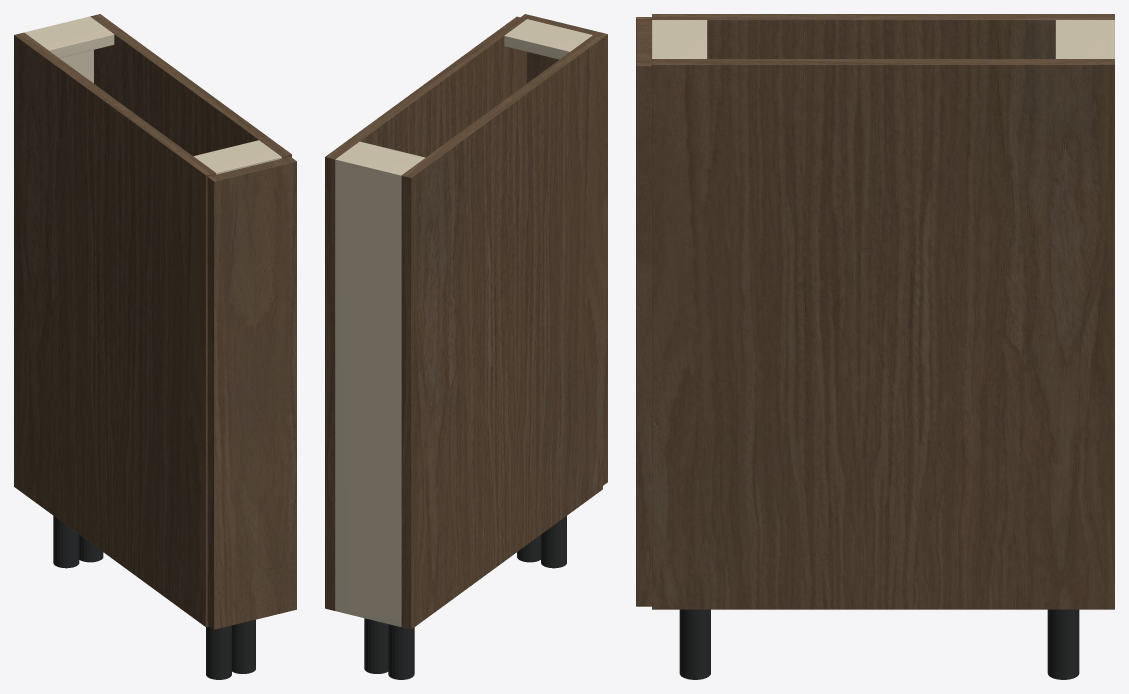
Rendered from oppein-ply-mso-b06fh.glb.
3 renders of one model, left to right at view 1: azimuth 30°, elevation 25°; view 2: azimuth 150°, elevation 25°; view 3: azimuth 270°, elevation 25°, orthographic. The views are drawn at different scales.
Parts seen in each view (by area): view 1: Cabinet side, Door, Cabinet side.001, Top support rail, Top support rail.001, Adjustable foot.001, Adjustable foot.003, Adjustable foot, Cabinet back, Adjustable foot.002; view 2: Cabinet side, Cabinet back, Cabinet side.001, Door, Top support rail.001, Adjustable foot, Top support rail, Adjustable foot.002, Adjustable foot.001, Adjustable foot.003; view 3: Cabinet side.001, Cabinet side, Door, Adjustable foot.002, Adjustable foot.003, Top support rail.001, Top support rail.
Part boxes in pixels (x1,y1,x2,y2): Cabinet side: [14, 32, 215, 626]; Door: [207, 156, 296, 629]; Cabinet side.001: [90, 14, 291, 158]; Top support rail: [26, 19, 114, 58]; Top support rail.001: [193, 140, 281, 174]; Adjustable foot.001: [206, 625, 231, 679]; Adjustable foot.003: [232, 619, 255, 673]; Adjustable foot: [53, 516, 79, 568]; Cabinet back: [24, 16, 93, 83]; Adjustable foot.002: [79, 535, 103, 562]; Cabinet side: [401, 35, 602, 629]; Cabinet back: [335, 156, 403, 626]; Cabinet side.001: [325, 16, 526, 610]; Door: [520, 14, 607, 485]; Top support rail.001: [504, 19, 592, 59]; Adjustable foot: [388, 624, 414, 679]; Top support rail: [339, 141, 425, 173]; Adjustable foot.002: [364, 618, 388, 673]; Adjustable foot.001: [541, 516, 566, 568]; Adjustable foot.003: [517, 535, 540, 562]; Cabinet side.001: [652, 59, 1114, 609]; Cabinet side: [652, 14, 1114, 58]; Door: [636, 17, 651, 606]; Adjustable foot.002: [1047, 609, 1079, 679]; Adjustable foot.003: [679, 609, 710, 679]; Top support rail.001: [652, 20, 707, 58]; Top support rail: [1055, 20, 1109, 58].
Size of the model in its own units: 0.1524 by 0.8763 by 0.6064.
3 materials, 1 textured.
